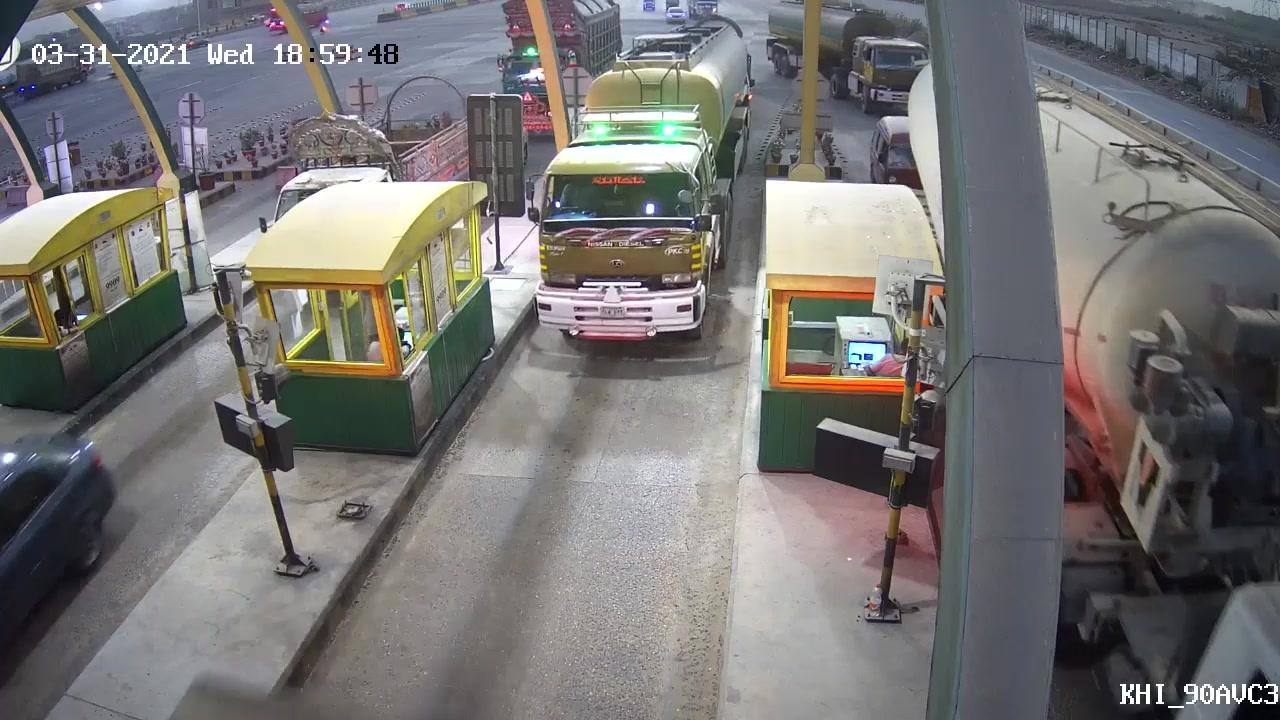F6: (520, 9, 771, 351)
